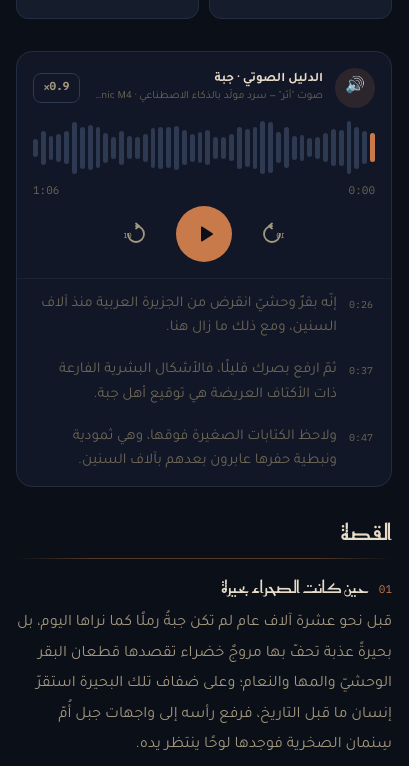
Test case: شاشة تفاصيل الموقع › ينتقل المشغّل إلى المقطع المضغوط عليه
(page scrolled)
Click the text "ارفع بصرك قليلًا" at (198, 370), box x1=35 y1=358 x2=337 y2=407
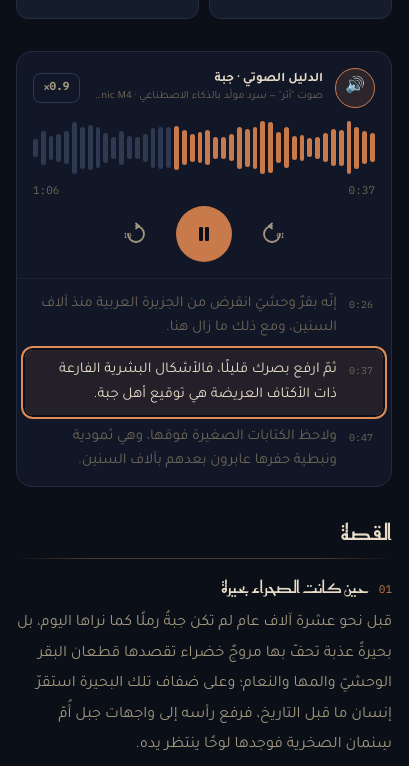
Result: the button named "إيقاف مؤقت" is shown at x1=176 y1=206 x2=232 y2=262
